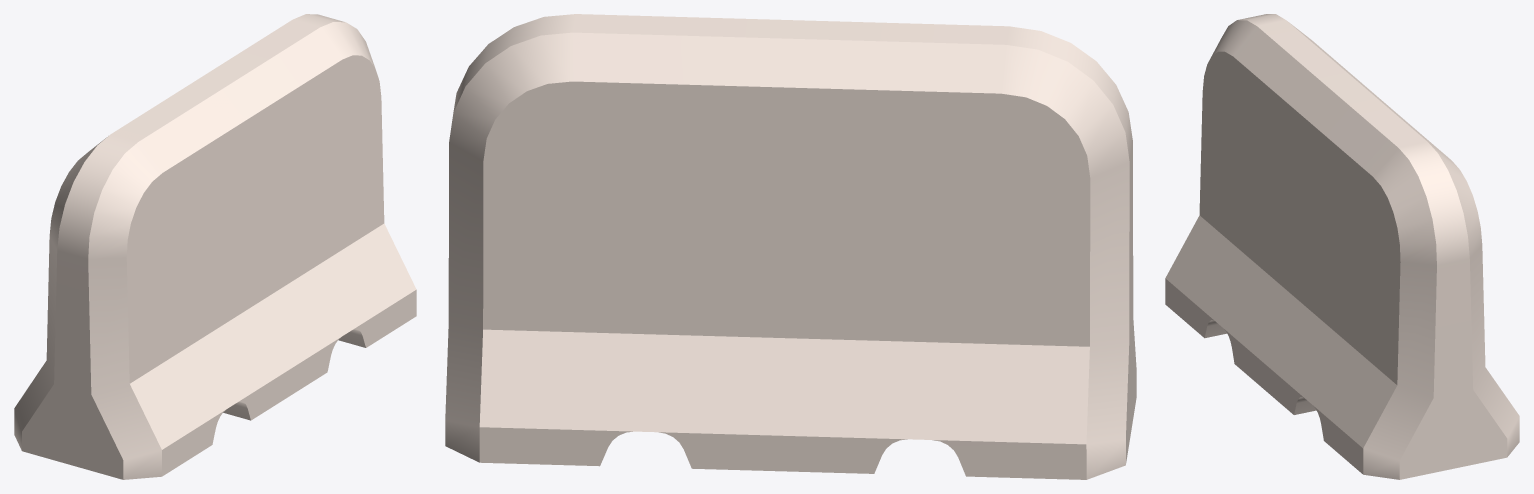
Rendered from barrier.fbx.
3 views of the same model, side by side, from view 1: azimuth 30°, elevation 25°; view 2: azimuth 150°, elevation 25°; view 3: azimuth 270°, elevation 25° (orthographic). The views are drawn at different scales.
Parts seen in each view (by area): view 1: TRAFFIC_FULL.032; view 2: TRAFFIC_FULL.032; view 3: TRAFFIC_FULL.032.
Boxes of the visible parts, bbox=[...] form: TRAFFIC_FULL.032: bbox=[14, 14, 416, 479]; TRAFFIC_FULL.032: bbox=[445, 14, 1136, 479]; TRAFFIC_FULL.032: bbox=[1165, 14, 1519, 479].
Size of the model in its own units: 1.17 by 0.7419 by 0.8235.
